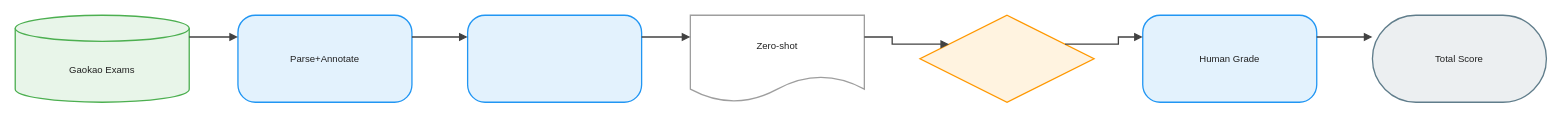
Some shapes in this 1563 by 118 pixel diagram are drawn without their labels. The centre of each missing label's shape, as x and y in pixels:
Obj Match: the point at 1006,58
Obj/Subj Qs: the point at 554,58
